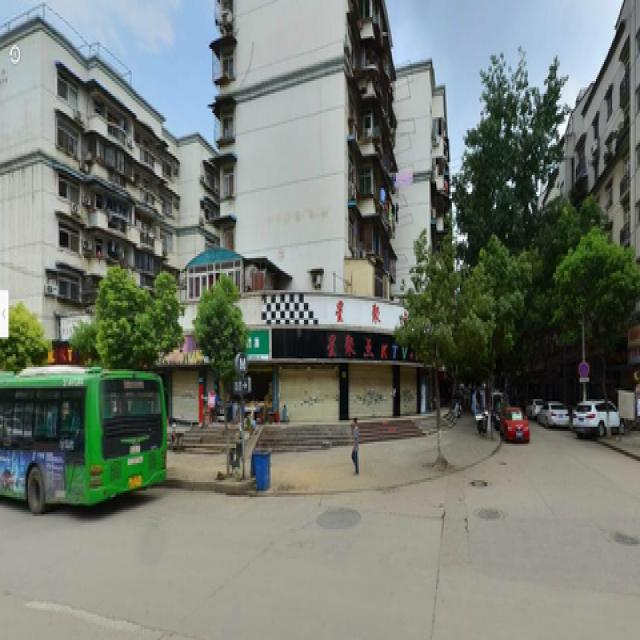cinn: (191, 293, 244, 472), (412, 273, 460, 459)
